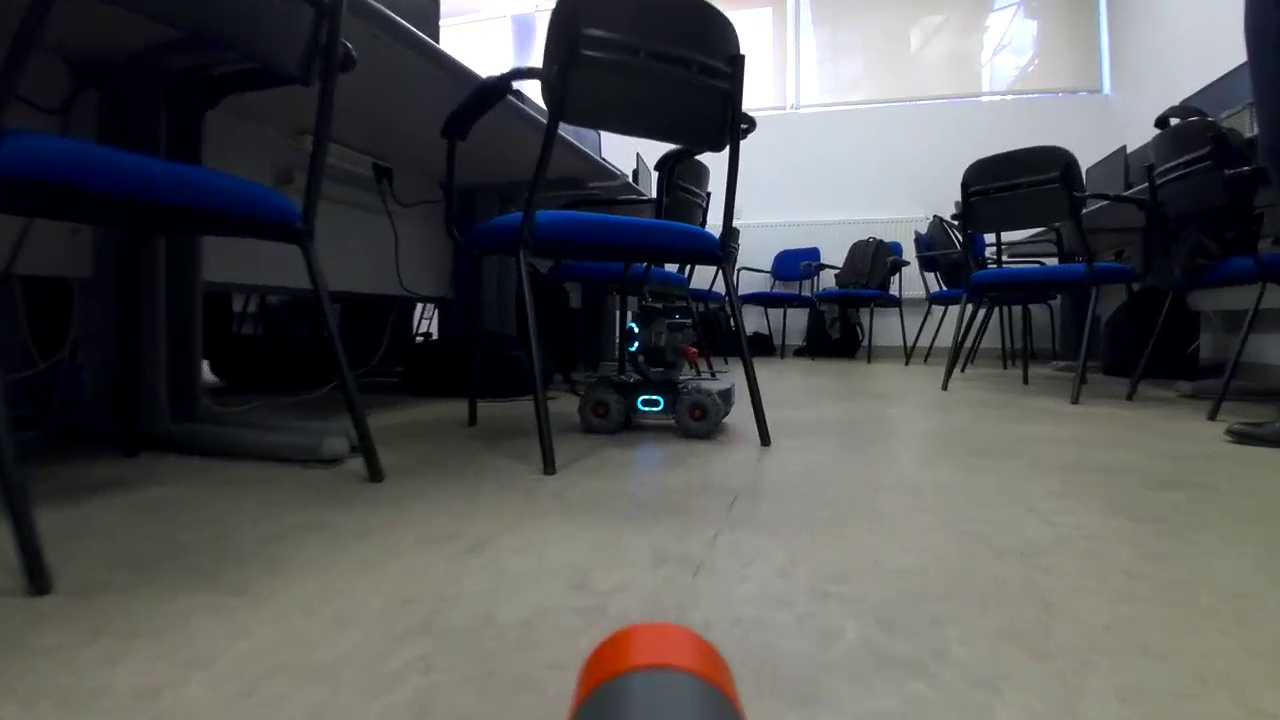robot: (573, 294, 746, 447)
